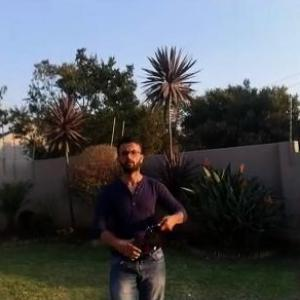follow: (86, 128, 192, 299)
